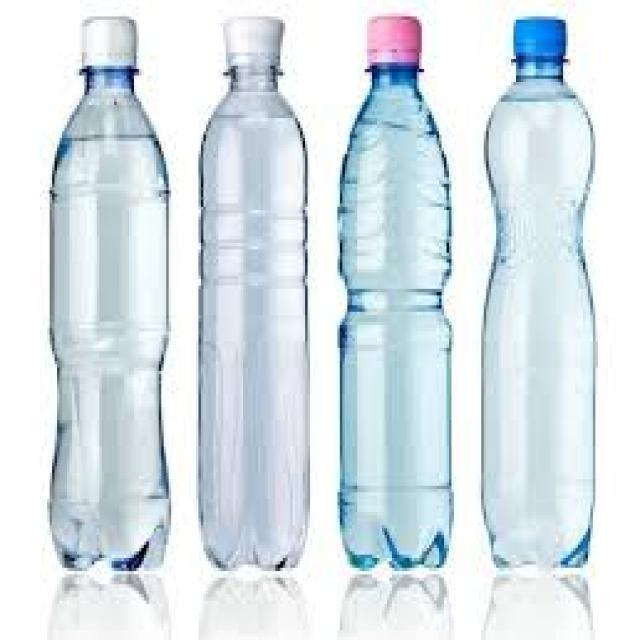Plastic: (47, 14, 170, 578), (479, 15, 596, 566), (340, 17, 454, 568), (202, 18, 312, 570)
